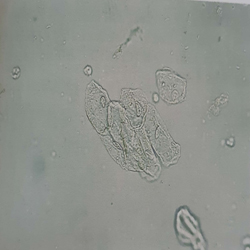Epithelial: (74, 78, 184, 197), (148, 59, 193, 110)
